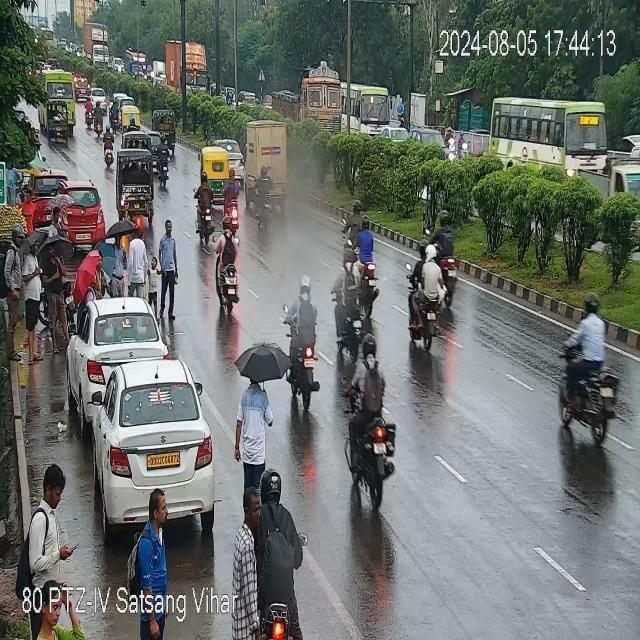2-wheelers: (554, 296, 625, 445), (344, 346, 390, 514), (261, 472, 306, 640), (399, 240, 452, 348), (192, 175, 240, 244), (334, 245, 363, 347), (424, 216, 465, 279), (342, 214, 379, 283), (215, 222, 238, 304), (253, 169, 276, 231), (150, 132, 174, 188), (104, 124, 114, 169), (94, 100, 107, 132), (86, 98, 98, 128)
auto: (243, 117, 294, 209), (117, 150, 158, 218), (199, 146, 234, 180), (46, 103, 69, 149), (120, 100, 138, 131), (152, 110, 176, 130)
bus: (485, 94, 612, 171), (343, 79, 390, 144), (38, 65, 82, 127)
car: (89, 366, 214, 531), (72, 295, 165, 399), (55, 186, 104, 244), (24, 163, 65, 214)
pedestrian: (26, 466, 78, 584), (230, 356, 274, 491), (137, 492, 172, 636), (230, 496, 264, 640), (3, 222, 25, 369), (42, 238, 68, 356), (21, 232, 44, 362), (151, 218, 180, 320), (45, 583, 93, 640), (96, 230, 132, 299), (126, 226, 153, 300), (90, 252, 104, 302), (24, 186, 35, 234)
truck: (277, 58, 343, 124), (165, 34, 209, 93), (81, 24, 109, 61)
